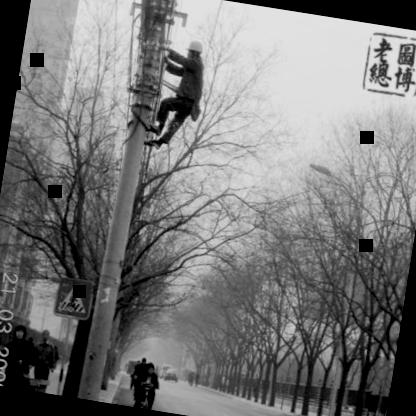helmet: (180, 35, 205, 63)
